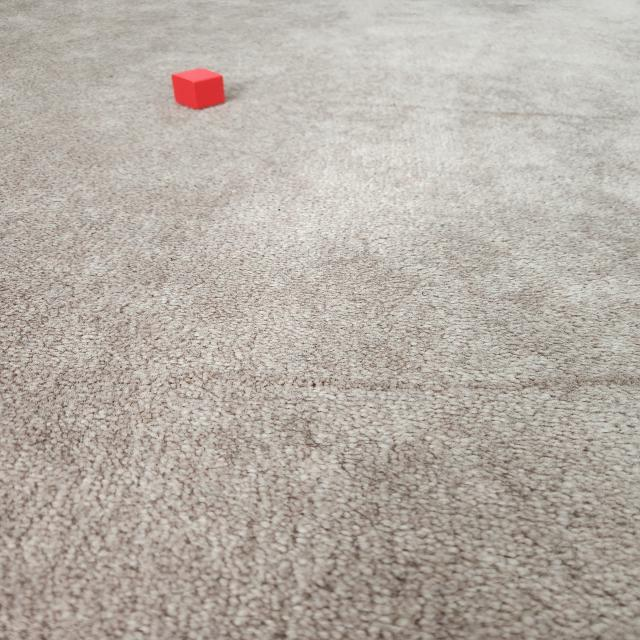red cube: (171, 66, 227, 109)
